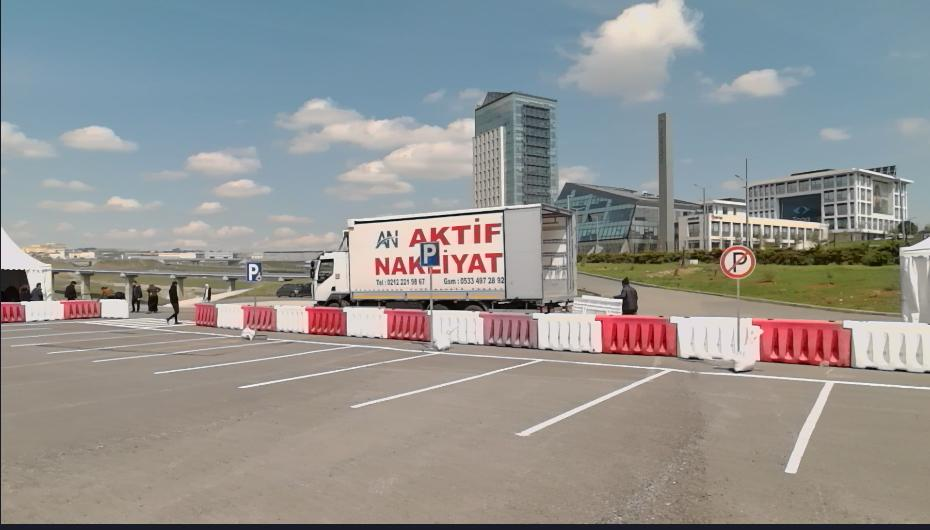nesne: (149, 341, 929, 480), (192, 301, 928, 373), (284, 337, 928, 391), (311, 205, 579, 305), (515, 370, 669, 438), (349, 361, 537, 410), (236, 354, 432, 390), (152, 344, 355, 375), (751, 317, 854, 368), (783, 381, 836, 471), (667, 312, 763, 360), (840, 321, 930, 372), (596, 313, 678, 356), (535, 313, 603, 354), (482, 311, 537, 348), (429, 310, 482, 344), (384, 309, 433, 344), (342, 307, 387, 339), (307, 304, 347, 334), (719, 244, 754, 278), (242, 303, 277, 332), (274, 304, 307, 333), (614, 276, 637, 313), (24, 301, 64, 322), (60, 298, 101, 318), (215, 302, 243, 330), (273, 281, 308, 299), (167, 279, 180, 326), (0, 299, 25, 323), (100, 297, 129, 317), (418, 240, 439, 266), (195, 302, 217, 326), (144, 281, 159, 315), (129, 278, 140, 312), (245, 261, 262, 282), (199, 278, 212, 300)
